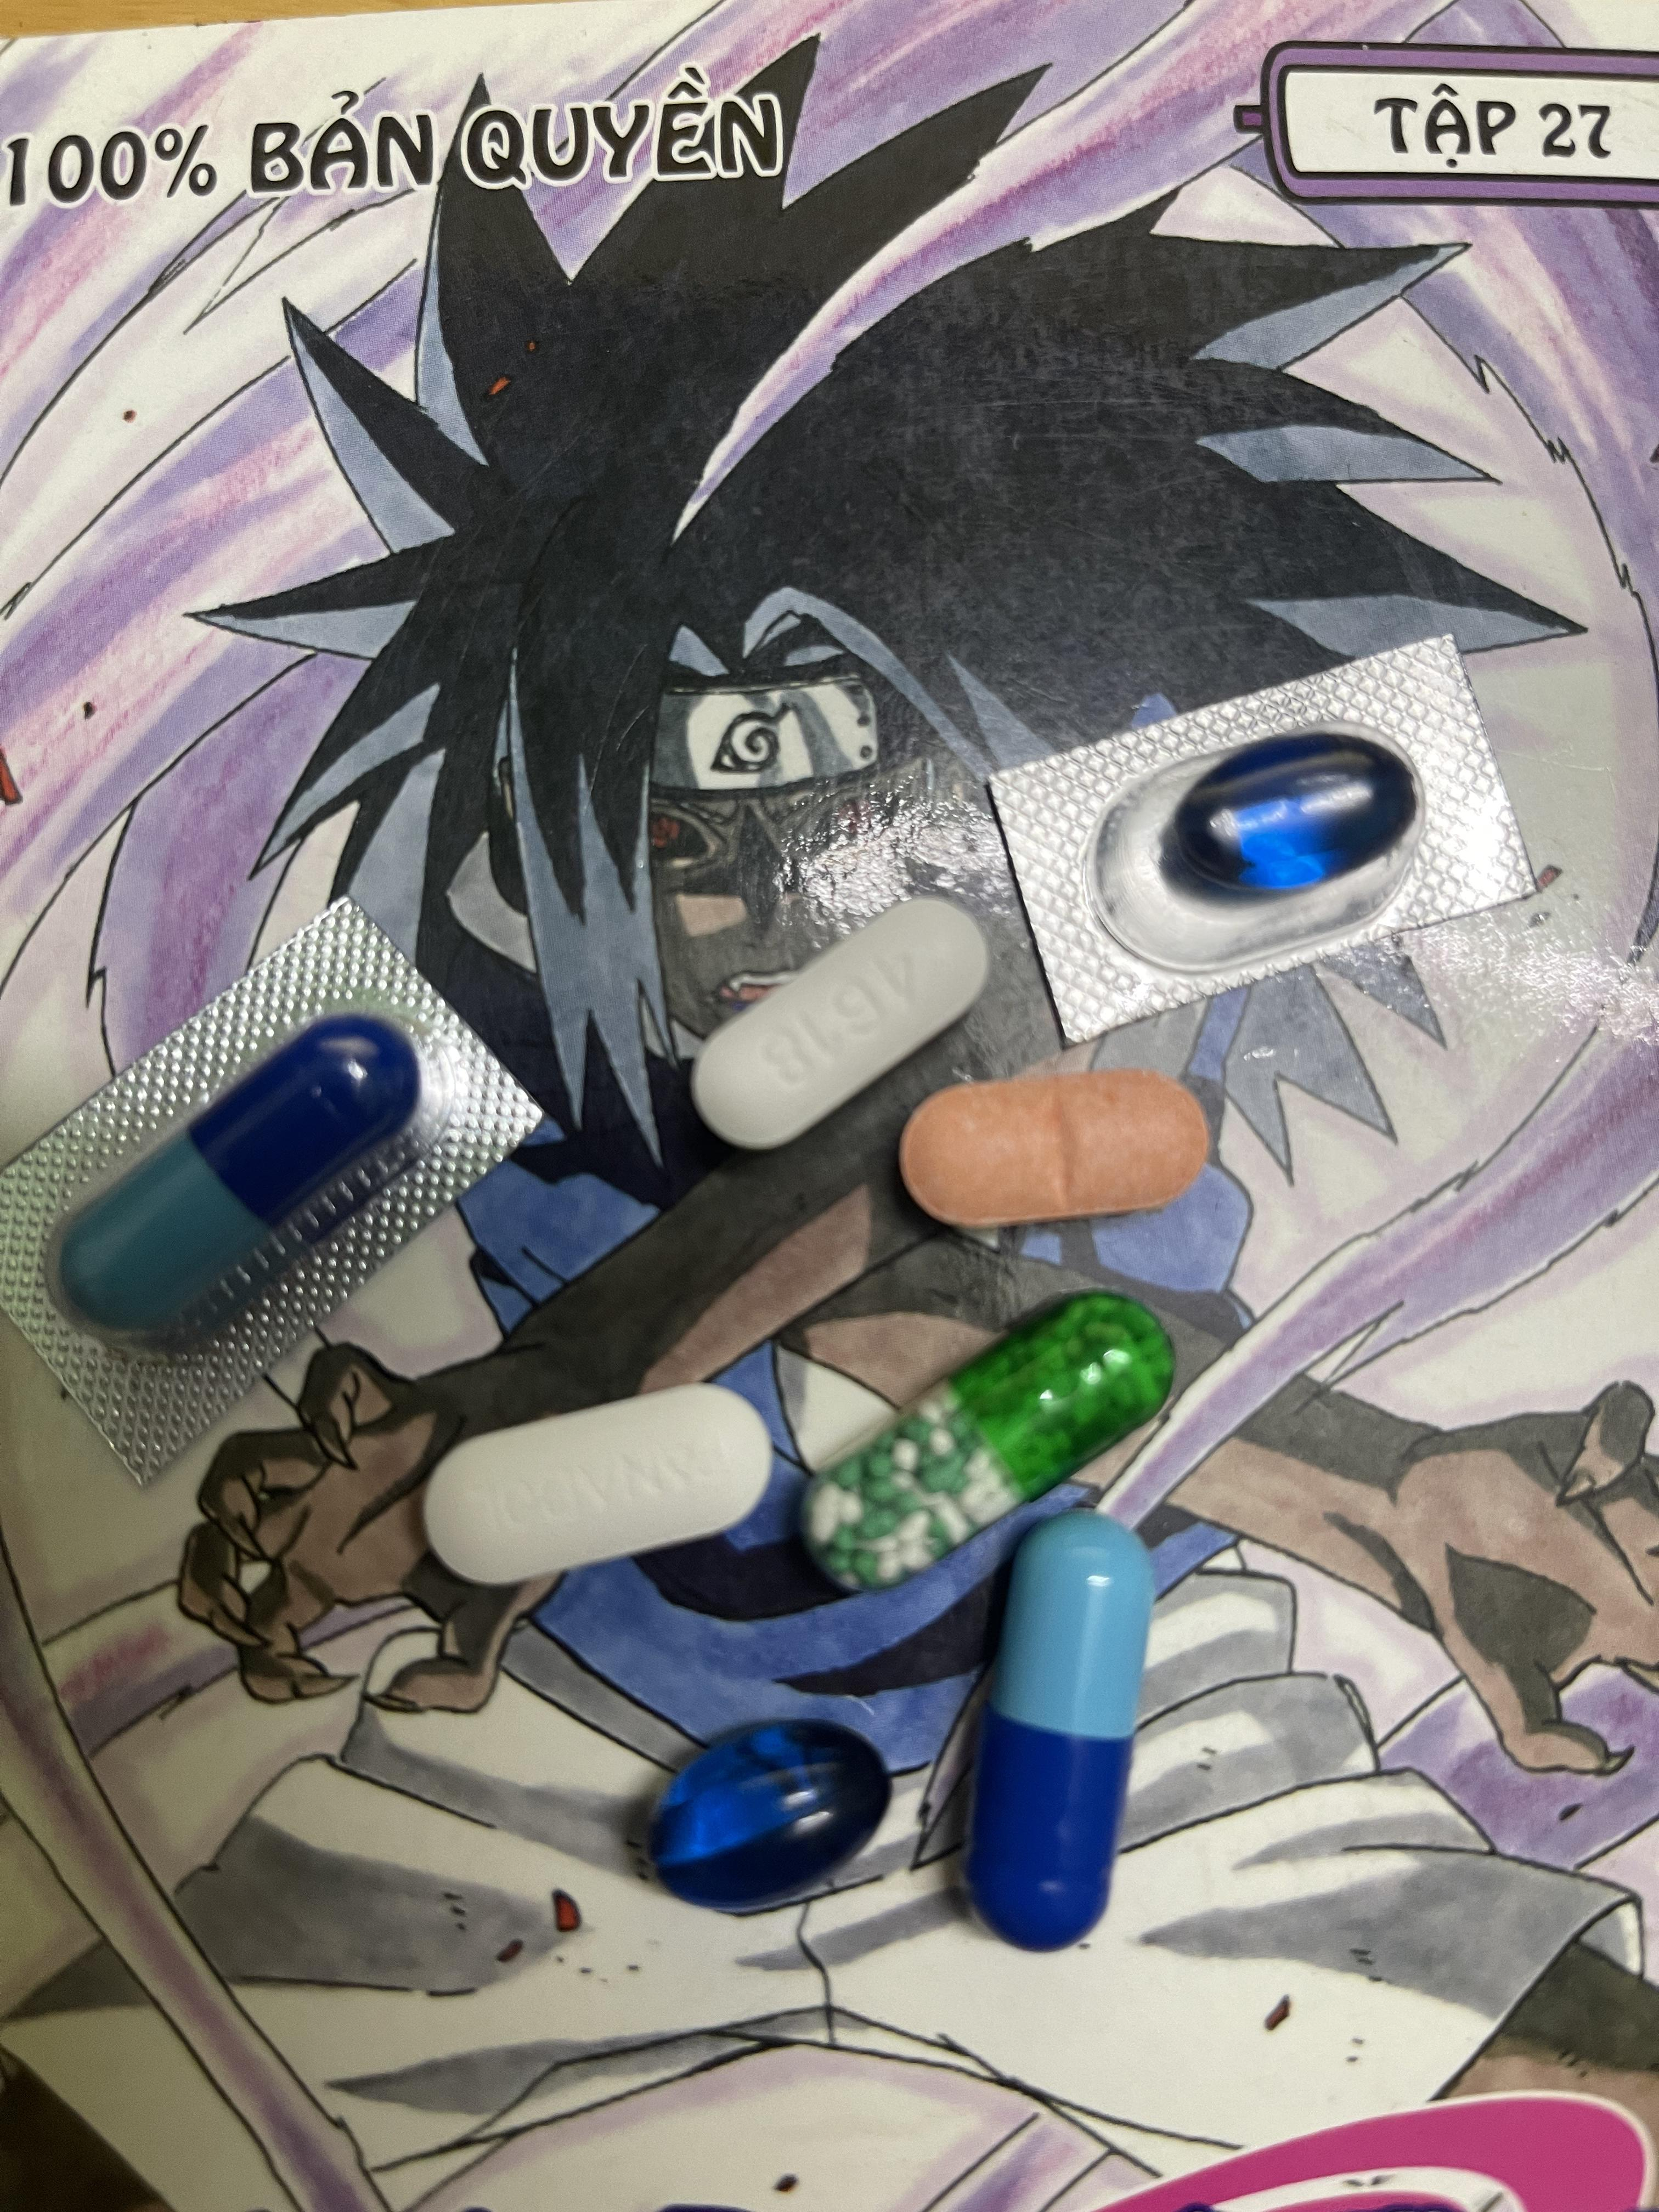Lincomyxin_500mg: (1162, 735, 1417, 911), (643, 1716, 880, 1883)
Loratadine_10mg: (899, 1055, 1211, 1233)
Paracetamol_350mg: (418, 1376, 774, 1588)
Paracetamol_500mg: (685, 895, 986, 1143)
Paracetamol_650mg: (788, 1292, 1173, 1583)
pill: (54, 1008, 423, 1345), (960, 1508, 1152, 1952)
